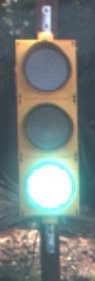Green: (14, 30, 92, 227)
